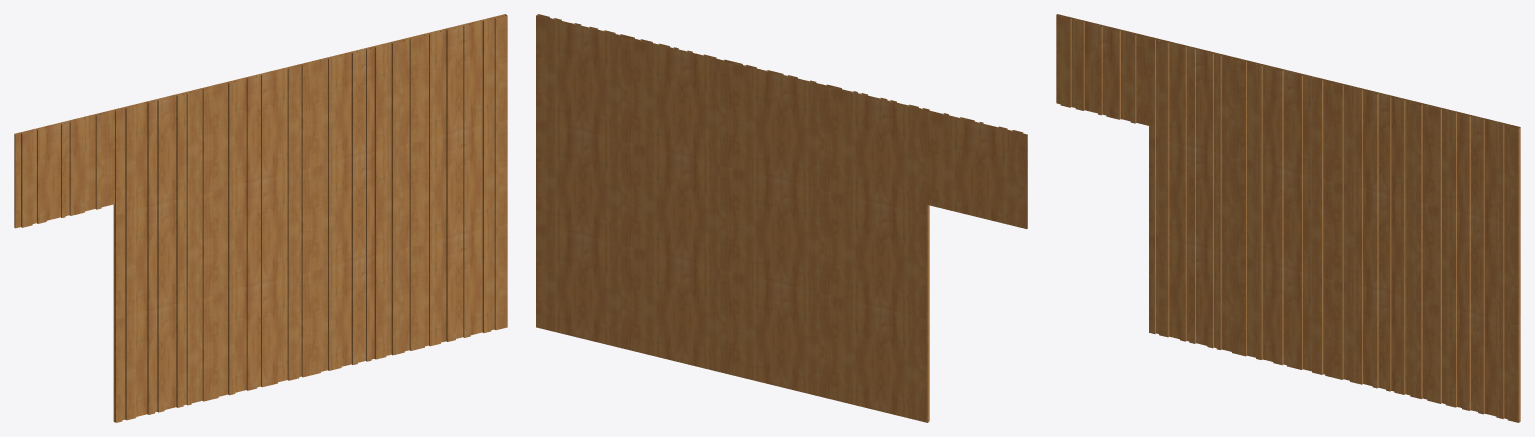
The model's file is featurewall-1.FBX.
3 renders of one model, left to right at view 1: azimuth 30°, elevation 25°; view 2: azimuth 150°, elevation 25°; view 3: azimuth 330°, elevation 25°, orthographic. The views are drawn at different scales.
Parts seen in each view (by area): view 1: Feature wall; view 2: Feature wall; view 3: Feature wall.
Part boxes in pixels (<box>): Feature wall: <box>14,14,507,422</box>; Feature wall: <box>536,14,1027,422</box>; Feature wall: <box>1056,14,1520,422</box>.
Bounding box in the file's own units: 494 × 300 × 3.8.
